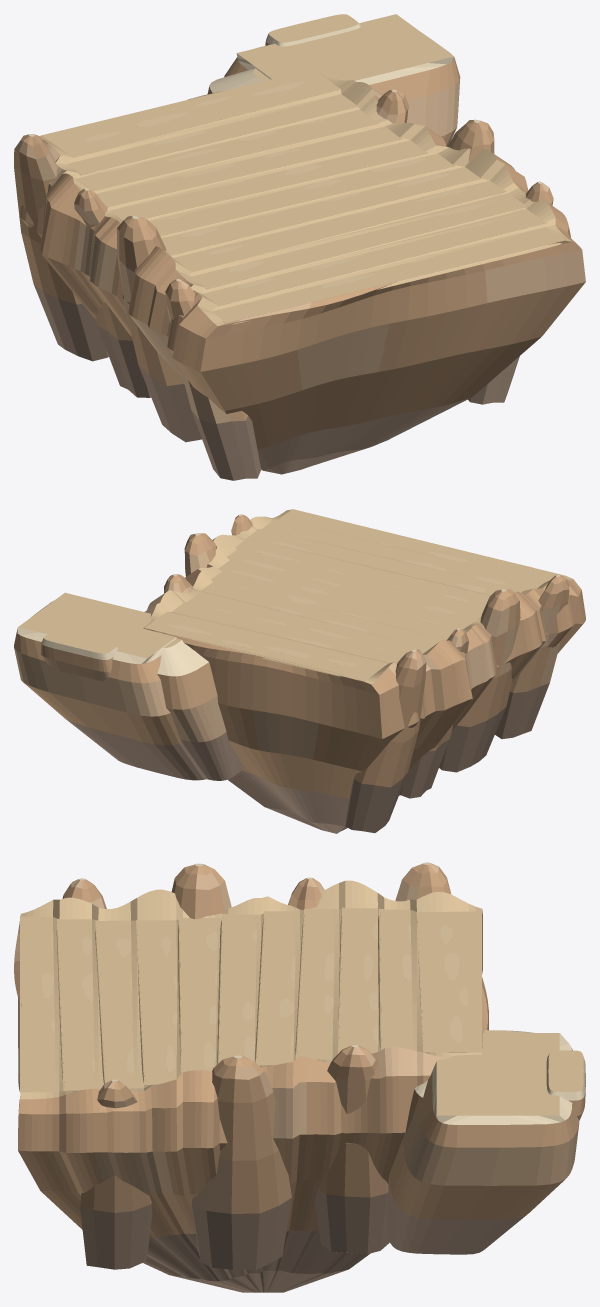
The model's file is world10-terrain-v1.glb.
The picture shows the model from 3 angles, top to bottom: view 1: azimuth 30°, elevation 25°; view 2: azimuth 150°, elevation 25°; view 3: azimuth 270°, elevation 25°; orthographic projection. The views are drawn at different scales.
Visible parts, largest first — view 1: w10-main-island-shell-sandstone-top, w10-main-island-shell-warm-ochre, w10-main-island-shell-deep-sandstone, w10-main-island-shell-strata-sand, w10-main-island-shell-sand-ripple, w10-main-island-shell-ivory-edge; view 2: w10-main-island-shell-sandstone-top, w10-main-island-shell-warm-ochre, w10-main-island-shell-deep-sandstone, w10-main-island-shell-strata-sand, w10-main-island-shell-sand-ripple, w10-main-island-shell-ivory-edge; view 3: w10-main-island-shell-sandstone-top, w10-main-island-shell-warm-ochre, w10-main-island-shell-deep-sandstone, w10-main-island-shell-strata-sand, w10-main-island-shell-sand-ripple, w10-main-island-shell-ivory-edge.
Boxes of the visible parts, x1,y1,x2,y2 form: w10-main-island-shell-sandstone-top: [39, 14, 571, 326]; w10-main-island-shell-warm-ochre: [14, 41, 585, 449]; w10-main-island-shell-deep-sandstone: [34, 284, 519, 480]; w10-main-island-shell-strata-sand: [14, 78, 585, 423]; w10-main-island-shell-sand-ripple: [85, 81, 496, 303]; w10-main-island-shell-ivory-edge: [29, 23, 542, 281]; w10-main-island-shell-sandstone-top: [18, 509, 572, 684]; w10-main-island-shell-warm-ochre: [14, 515, 585, 798]; w10-main-island-shell-deep-sandstone: [66, 683, 549, 833]; w10-main-island-shell-strata-sand: [14, 536, 560, 778]; w10-main-island-shell-sand-ripple: [168, 534, 525, 666]; w10-main-island-shell-ivory-edge: [17, 514, 560, 676]; w10-main-island-shell-sandstone-top: [18, 880, 583, 1115]; w10-main-island-shell-warm-ochre: [14, 863, 585, 1238]; w10-main-island-shell-deep-sandstone: [80, 1178, 528, 1292]; w10-main-island-shell-strata-sand: [14, 863, 582, 1213]; w10-main-island-shell-sand-ripple: [42, 920, 467, 1073]; w10-main-island-shell-ivory-edge: [79, 862, 585, 1124].
Bounding box in the file's own units: 89.1 × 56.84 × 88.
